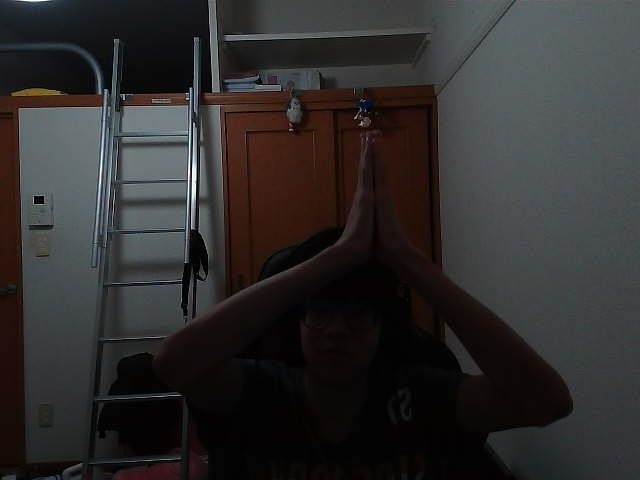pray: (359, 163, 395, 248)
